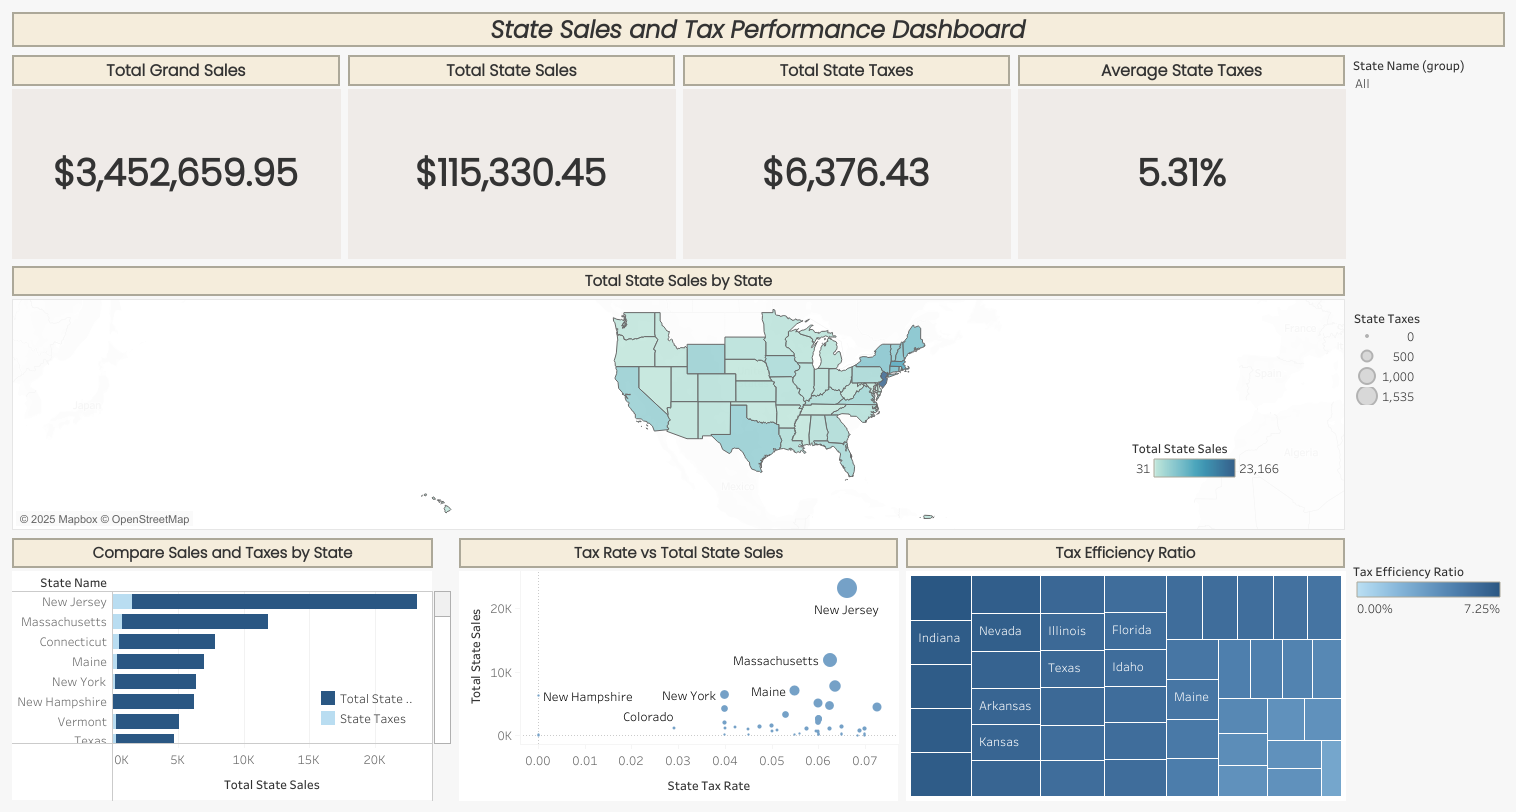

The page's visual inventory and layout, read from the dashboard file:
{"tool":"tableau","page":{"name":"State Sales and Tax Performance Dashboard","canvas":[1000,1000],"units":"permille","ordinal":0},"visuals":[{"type":"title","box":[4.8,9.6,990.3,54.1]},{"type":"worksheet","title":"Total Grand Sales","mark":"Automatic","box":[4.8,63.8,223.9,258.7]},{"type":"worksheet","title":"Total State Sales","mark":"Automatic","box":[228.7,63.8,223.3,258.7]},{"type":"worksheet","title":"Total State Taxes","mark":"Automatic","box":[452,63.8,223.3,258.7]},{"type":"worksheet","title":"Average State Taxes","mark":"Automatic","box":[675.3,63.8,223.3,258.7]},{"type":"filter","title":"Total State Sales by State","param":"[federated.0v6xq7t1dqj1e61a1ey9l1ca5xaz].[State Name (group)]","box":[898.6,63.8,96.6,309.3]},{"type":"worksheet","title":"Total State Sales by State","mark":"Automatic","box":[4.8,322.5,893.8,334.5]},{"type":"legend","title":"Tax Rate vs Total State Sales","param":"[federated.0v6xq7t1dqj1e61a1ey9l1ca5xaz].[sum:State Taxes:qk]","box":[898.6,373,96.6,309.3]},{"type":"legend","title":"Total State Sales by State","param":"[federated.0v6xq7t1dqj1e61a1ey9l1ca5xaz].[sum:Total State Sales:qk]","box":[746.5,534.8,99.6,107.5]},{"type":"worksheet","title":"Compare Sales and Taxes by State","mark":"Bar","rows":["State Name"],"cols":["Total State Sales","State Taxes"],"box":[4.8,657,298.1,333.3]},{"type":"worksheet","title":"Tax Rate vs Total State Sales","mark":"Circle","rows":["Total State Sales"],"cols":["State Tax Rate"],"box":[303,657,298.1,333.3]},{"type":"worksheet","title":"Tax Efficiency Ratio","mark":"Automatic","box":[601.1,657,297.5,333.3]},{"type":"legend","title":"Tax Efficiency Ratio","param":"[federated.0v6xq7t1dqj1e61a1ey9l1ca5xaz].[sum:Calculation_377458005811576832:qk]","box":[898.6,682.3,96.6,308.1]},{"type":"legend","title":"Compare Sales and Taxes by State","param":"[federated.0v6xq7t1dqj1e61a1ey9l1ca5xaz].[:Measure Names]","box":[209.4,846.1,64.6,57.4]}]}

Visuals, with their boxes on the dashboard's canvas, which has no fixed pixel size, in thousandths of its width and height (x1, y1, x2, y2). These are canvas units, not pixel positions in the 1516x812 screenshot, which may show the page scaled, cropped or inside an application window:
title: box=[5, 10, 995, 64]
"Total Grand Sales" worksheet: box=[5, 64, 229, 322]
"Total State Sales" worksheet: box=[229, 64, 452, 322]
"Total State Taxes" worksheet: box=[452, 64, 675, 322]
"Average State Taxes" worksheet: box=[675, 64, 899, 322]
"Total State Sales by State" filter: box=[899, 64, 995, 373]
"Total State Sales by State" worksheet: box=[5, 322, 899, 657]
"Tax Rate vs Total State Sales" legend: box=[899, 373, 995, 682]
"Total State Sales by State" legend: box=[746, 535, 846, 642]
"Compare Sales and Taxes by State" worksheet (Bar marks): box=[5, 657, 303, 990]
"Tax Rate vs Total State Sales" worksheet (Circle marks): box=[303, 657, 601, 990]
"Tax Efficiency Ratio" worksheet: box=[601, 657, 899, 990]
"Tax Efficiency Ratio" legend: box=[899, 682, 995, 990]
"Compare Sales and Taxes by State" legend: box=[209, 846, 274, 904]
